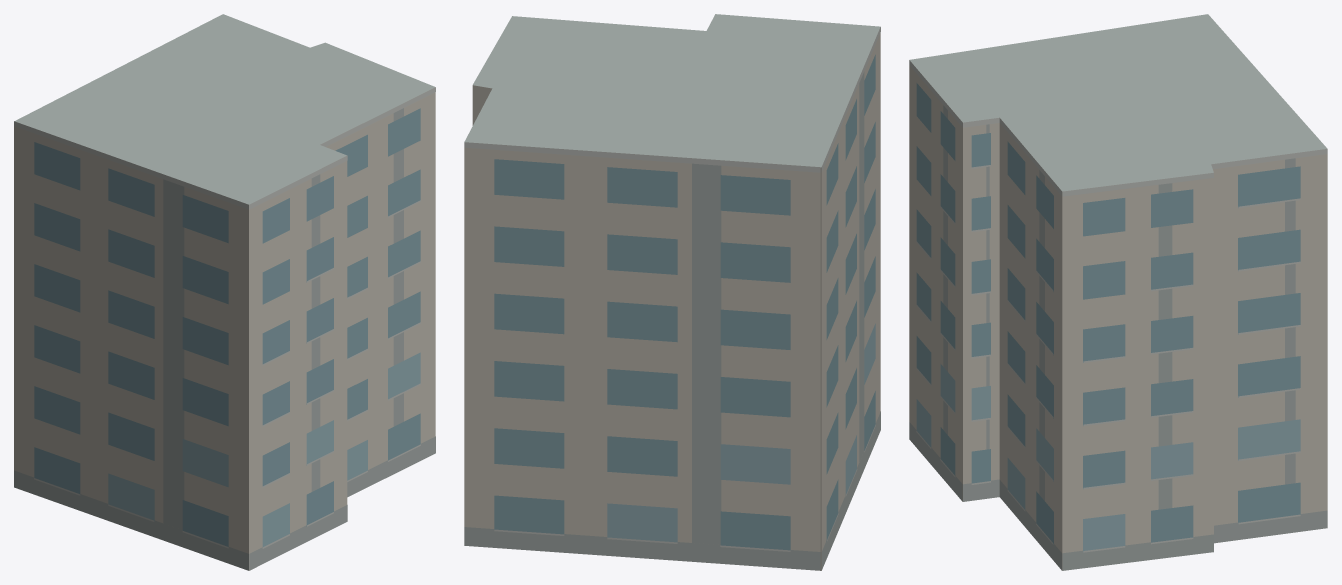
Rendered from survey-upis-32843238.glb.
3 views of the same model, side by side, from view 1: azimuth 30°, elevation 25°; view 2: azimuth 150°, elevation 25°; view 3: azimuth 270°, elevation 25° (orthographic). The views are drawn at different scales.
Visible parts, largest first — view 1: survey-upis-32843238.tmp; view 2: survey-upis-32843238.tmp; view 3: survey-upis-32843238.tmp.
Boxes of the visible parts, <box> form: survey-upis-32843238.tmp: <box>14,14,435,570</box>; survey-upis-32843238.tmp: <box>464,14,880,570</box>; survey-upis-32843238.tmp: <box>909,14,1327,570</box>.
Bounding box in the file's own units: 17.87 × 17.8 × 17.8.
